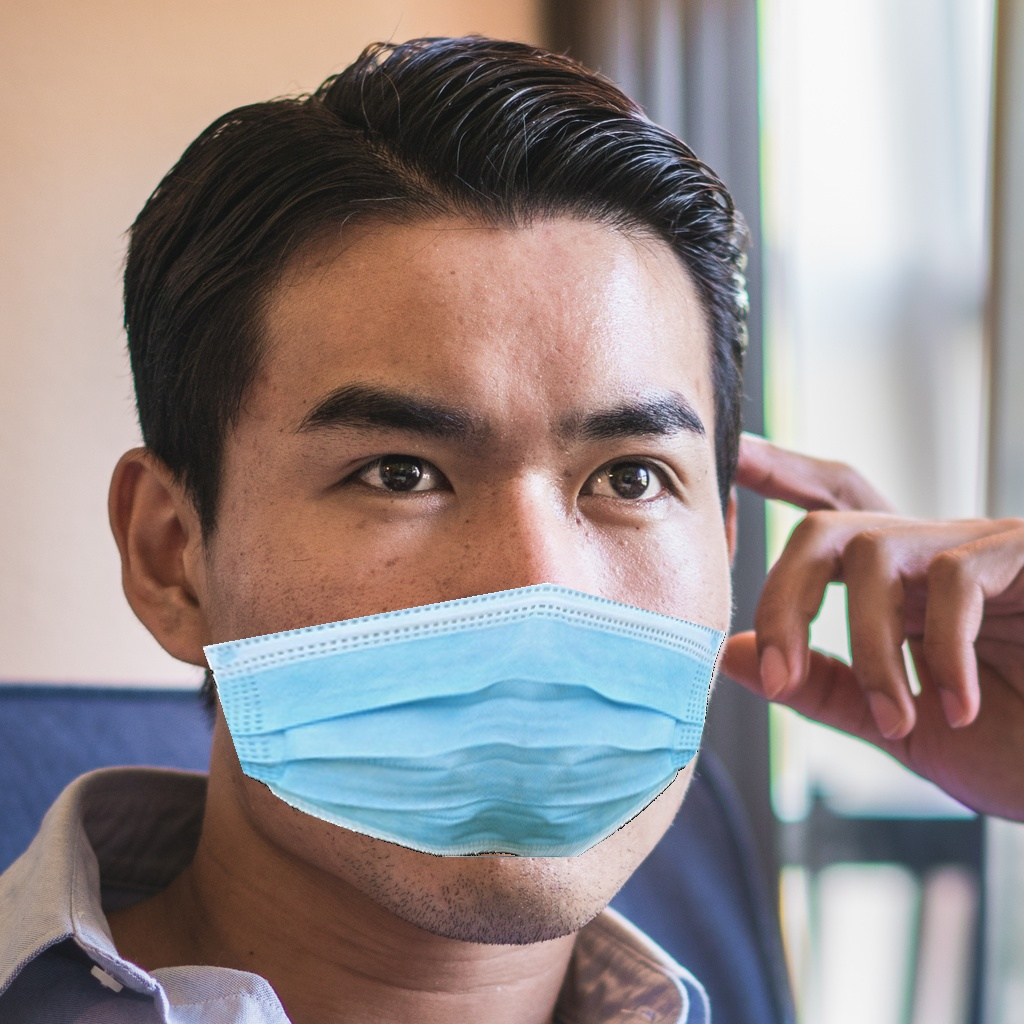mask_weared_incorrect: (175, 374, 762, 954)
